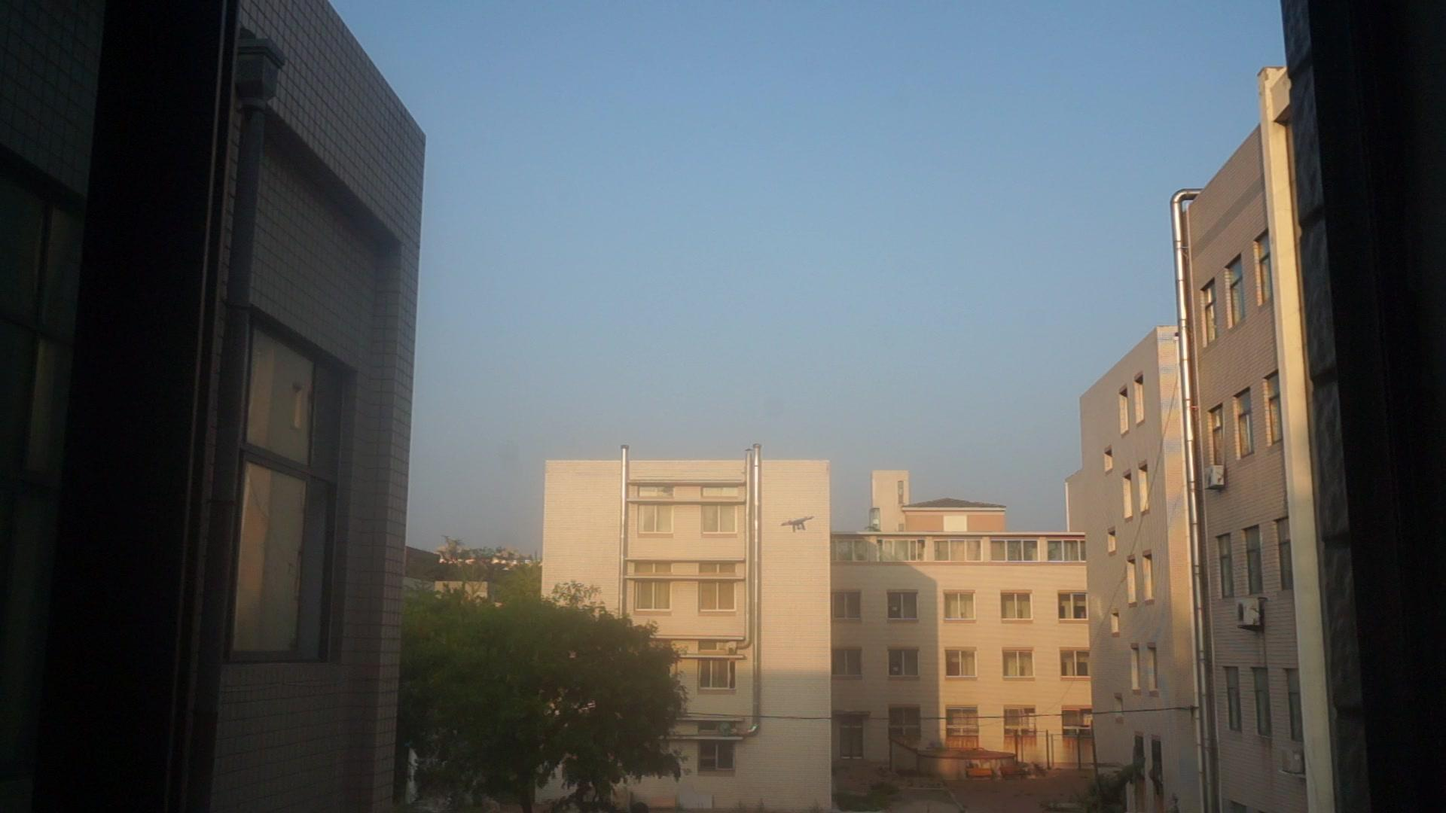UAV: (781, 516, 816, 534)
